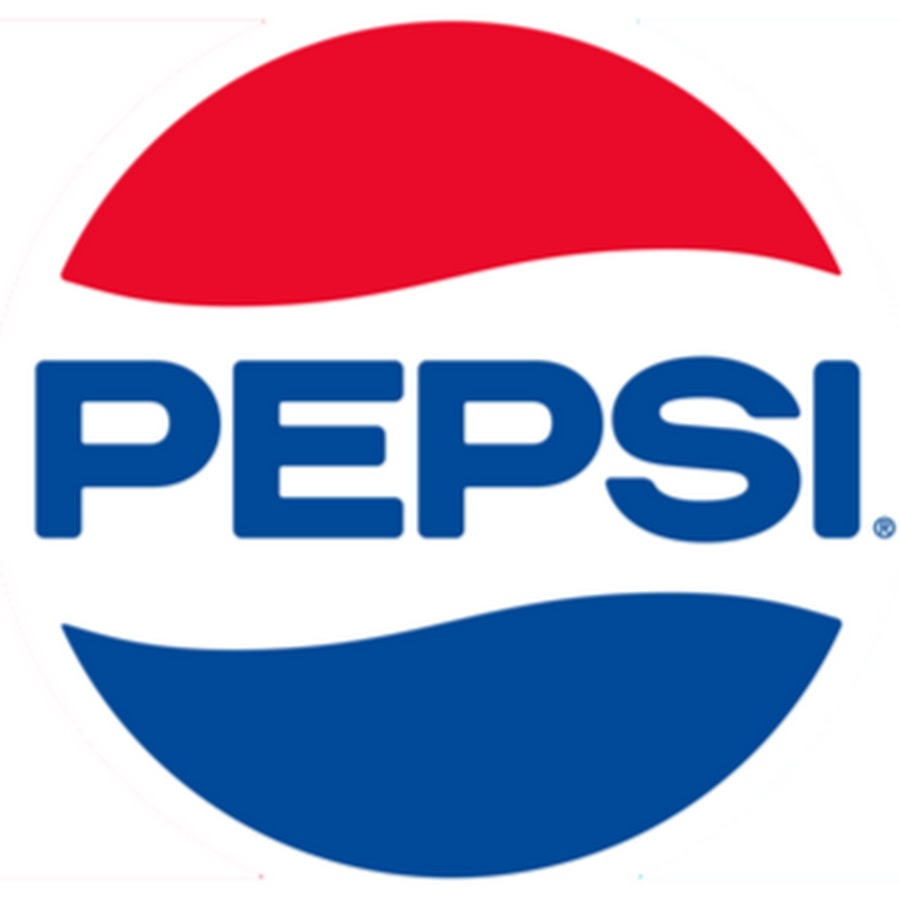pepsi: (3, 2, 897, 879)
